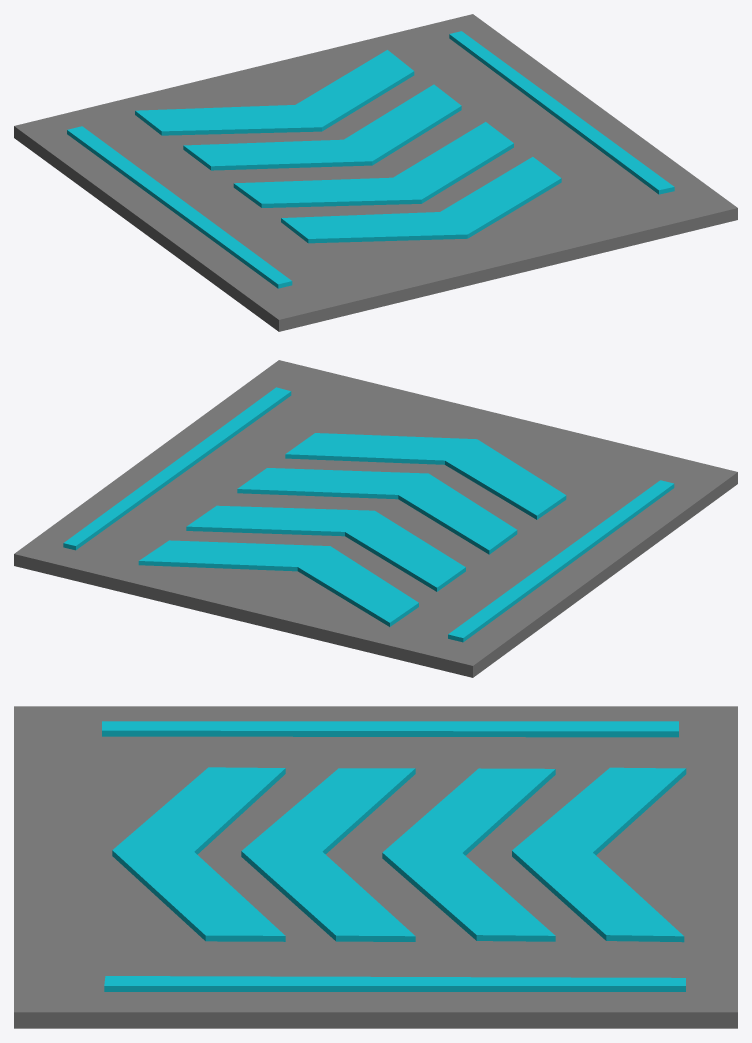
The model's file is Speeder.fbx.
3 views of the same model, one above another, from view 1: azimuth 30°, elevation 25°; view 2: azimuth 150°, elevation 25°; view 3: azimuth 270°, elevation 25° (orthographic). The views are drawn at different scales.
Parts seen in each view (by area): view 1: WindowTrap; view 2: WindowTrap; view 3: WindowTrap.
Boxes of the visible parts, x1=… form: WindowTrap: x1=14, y1=14, x2=737, y2=331; WindowTrap: x1=14, y1=360, x2=737, y2=677; WindowTrap: x1=14, y1=706, x2=737, y2=1028.
Bounding box in the file's own units: 2 × 2 × 0.068.
